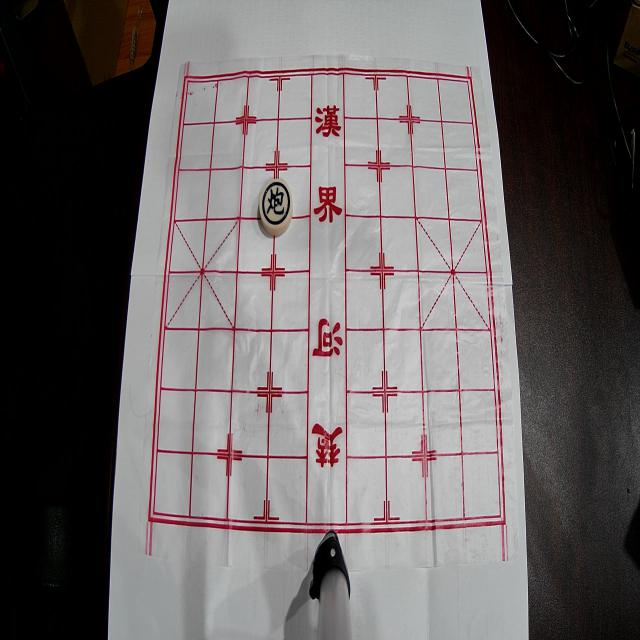black-cannon: (259, 179, 293, 236)
